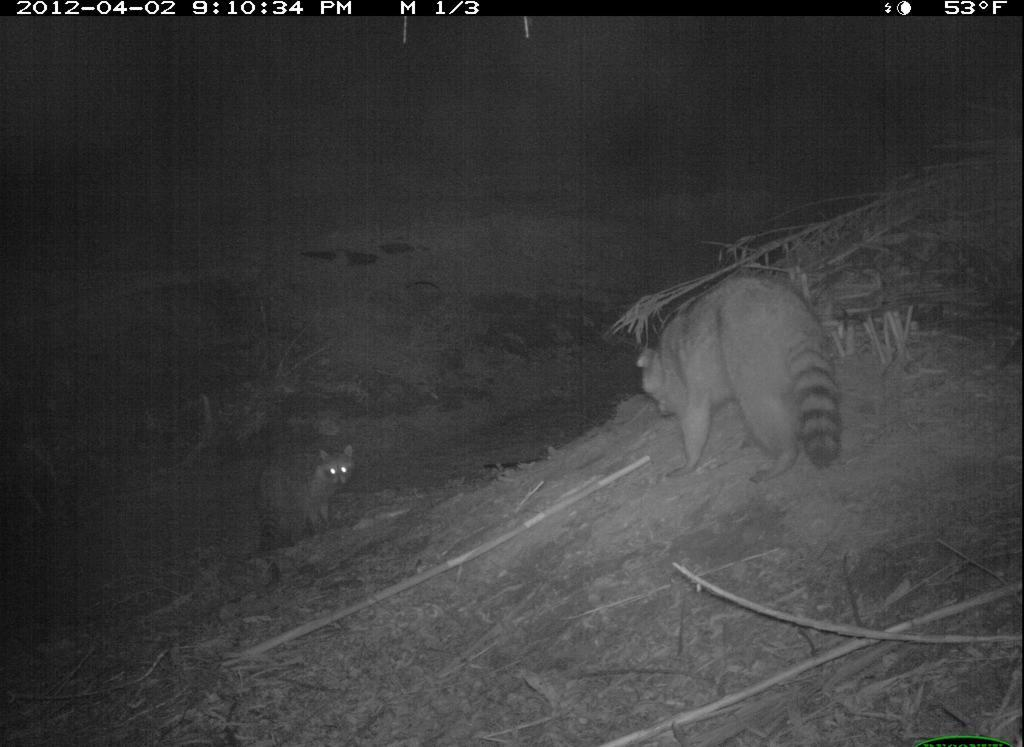raccoon: (612, 277, 862, 488), (253, 446, 369, 579)
